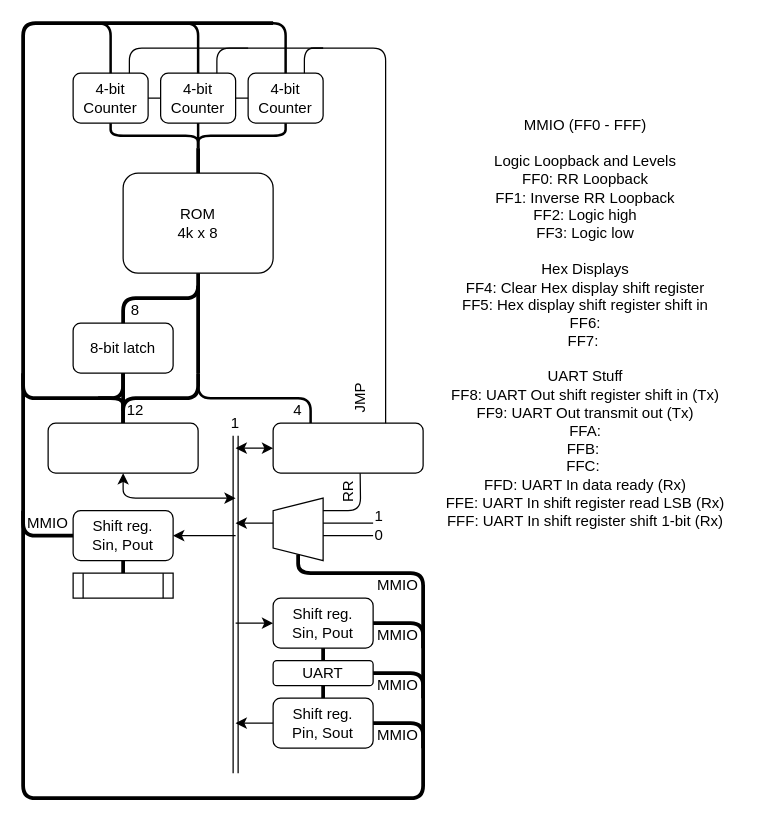
Image size: 770x823. Some labels were removed from this diagram. Here are the shapes that lost their labels. From the top down, the box of each, then its label:
(47, 422, 198, 473): 4k x 1 SRAM (1k x 4)
(272, 422, 423, 473): MC/UE14500
(272, 497, 323, 561): MUX
(72, 572, 173, 598): Hex Disp.
